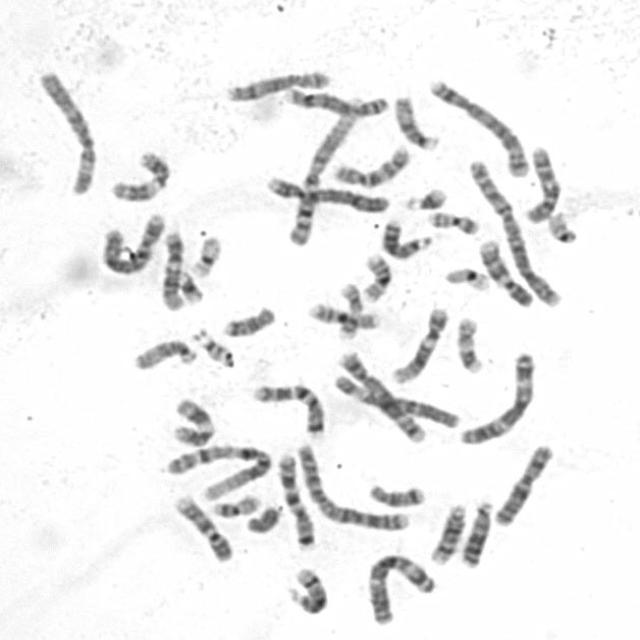A1: (283, 93, 364, 248), (161, 437, 275, 500)
A2: (464, 153, 566, 308), (291, 438, 415, 533)
A3: (456, 346, 540, 446), (363, 547, 440, 626)
B4: (262, 168, 393, 216), (97, 206, 169, 277)
B5: (425, 72, 534, 178), (334, 344, 430, 445)
C10: (327, 139, 415, 189), (520, 140, 564, 225)
C11: (106, 146, 174, 203), (166, 393, 218, 448)
C12: (388, 301, 452, 385), (156, 225, 187, 312)
C6: (34, 64, 101, 196), (328, 368, 465, 431)
C7: (271, 446, 320, 550), (249, 376, 329, 438)
C8: (221, 64, 333, 102), (280, 83, 392, 118)
C9: (170, 488, 236, 564), (474, 232, 537, 308)
D13: (457, 494, 498, 569), (378, 212, 436, 260)
D14: (426, 498, 470, 566), (286, 562, 332, 616)
D15: (391, 89, 444, 152), (128, 332, 201, 372)
E16: (305, 296, 384, 331), (358, 247, 395, 303)
E17: (453, 310, 488, 375), (332, 277, 366, 341)
E18: (218, 300, 279, 338), (365, 477, 430, 509)
F19: (186, 230, 225, 278), (441, 260, 494, 292)
F20: (425, 204, 482, 236), (206, 488, 264, 518)
G21: (400, 181, 450, 212), (172, 265, 207, 306)
G22: (190, 323, 238, 368), (543, 206, 581, 245)
X: (489, 438, 558, 528)
Y: (242, 499, 284, 535)
